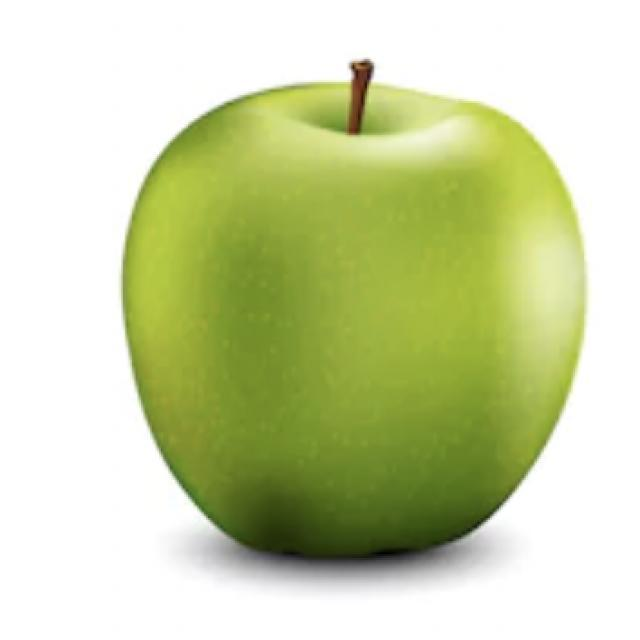Fresh Apple: (127, 85, 590, 627)
